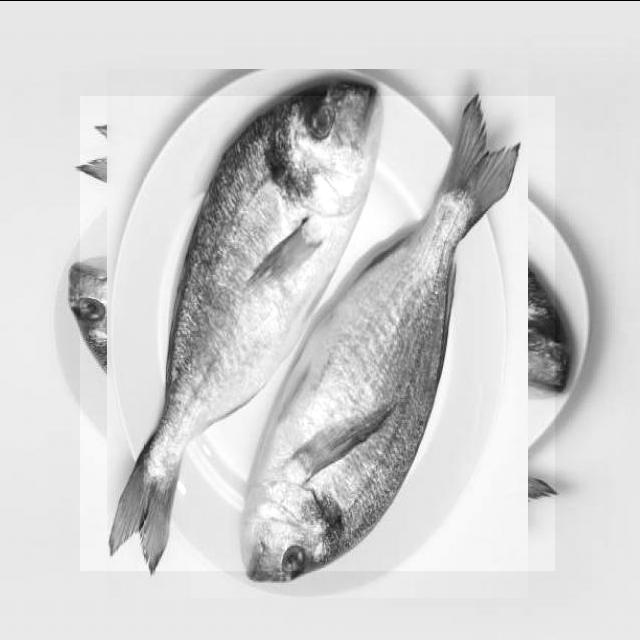Healthy Fish: (80, 95, 555, 570)
